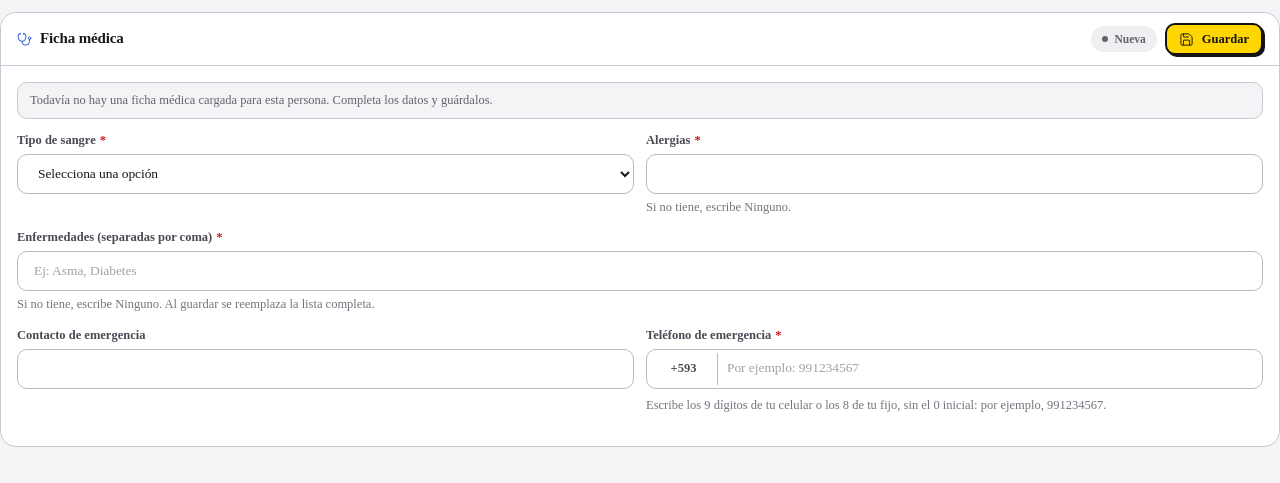
Test: MedicalRecordEditor emergency phone (#643) › refuses to save a malformed emergency phone, quoting the shared rule
Select "O POSITIVO" in the dropdown labelled "Tipo de sangre": (326, 174) x1=17 y1=154 x2=634 y2=194
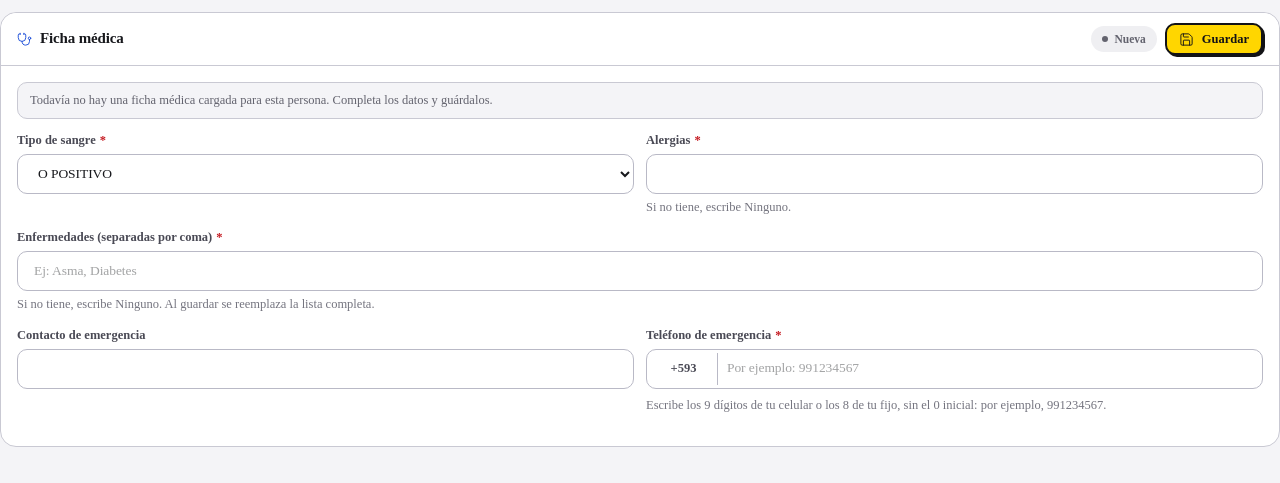
In the field labelled "Alergias": (954, 174) x1=646 y1=154 x2=1263 y2=194, type "Ninguno"
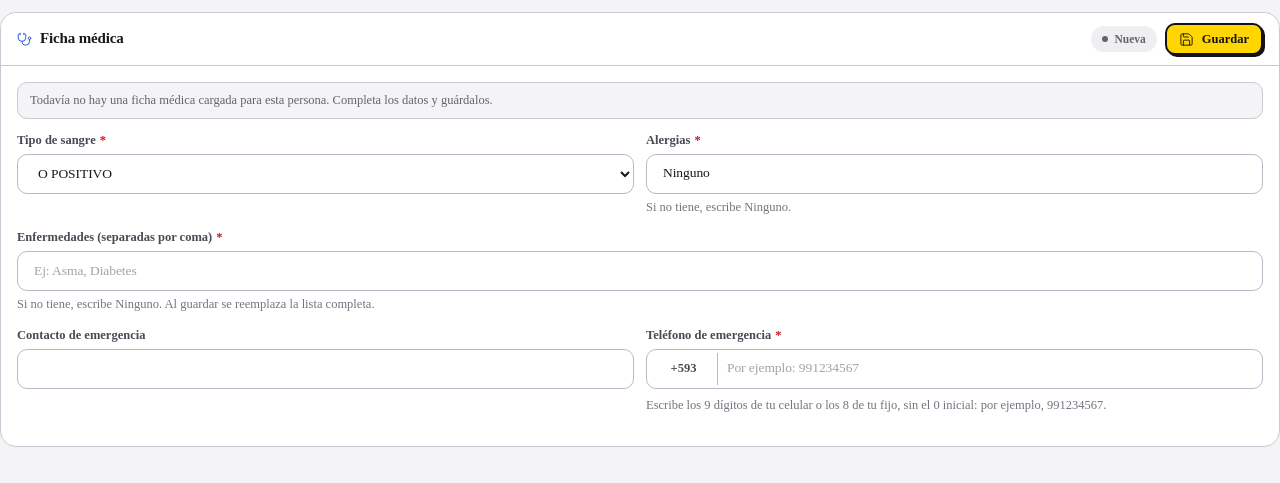
In the field labelled "Enfermedades (separadas por coma)": (640, 271) x1=17 y1=251 x2=1263 y2=291, type "Ninguno"
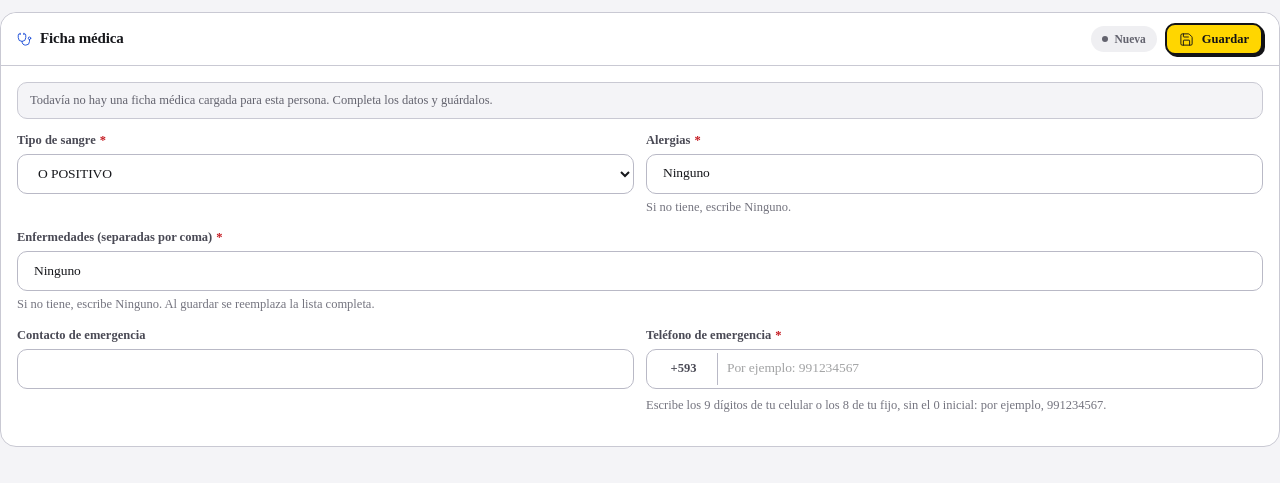
In the field labelled "Teléfono de emergencia*": (954, 368) x1=646 y1=348 x2=1263 y2=388, type "123"
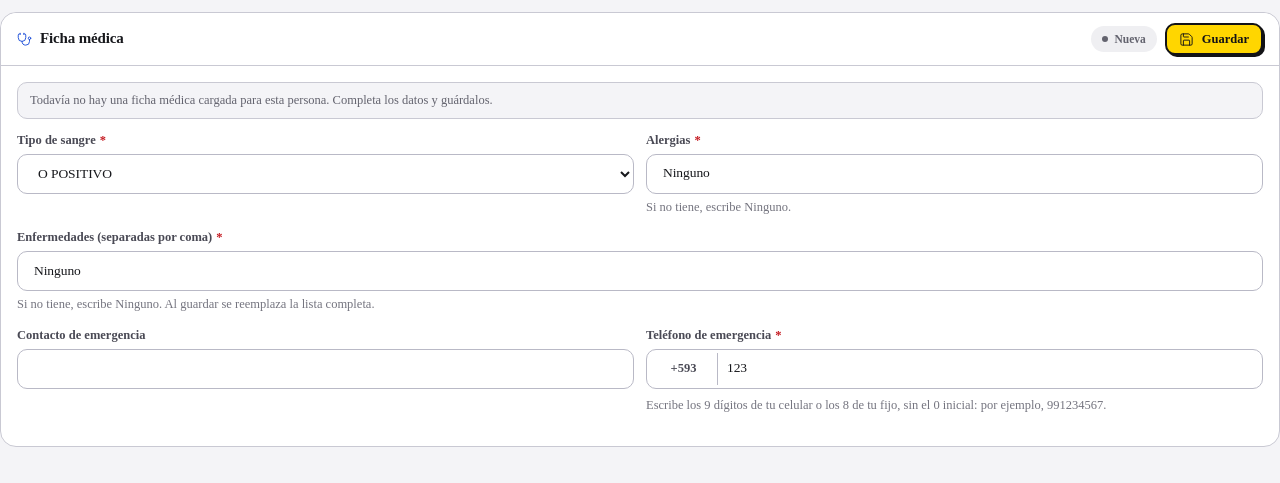
Click the button "Guardar": (1214, 39) x1=1165 y1=23 x2=1263 y2=55
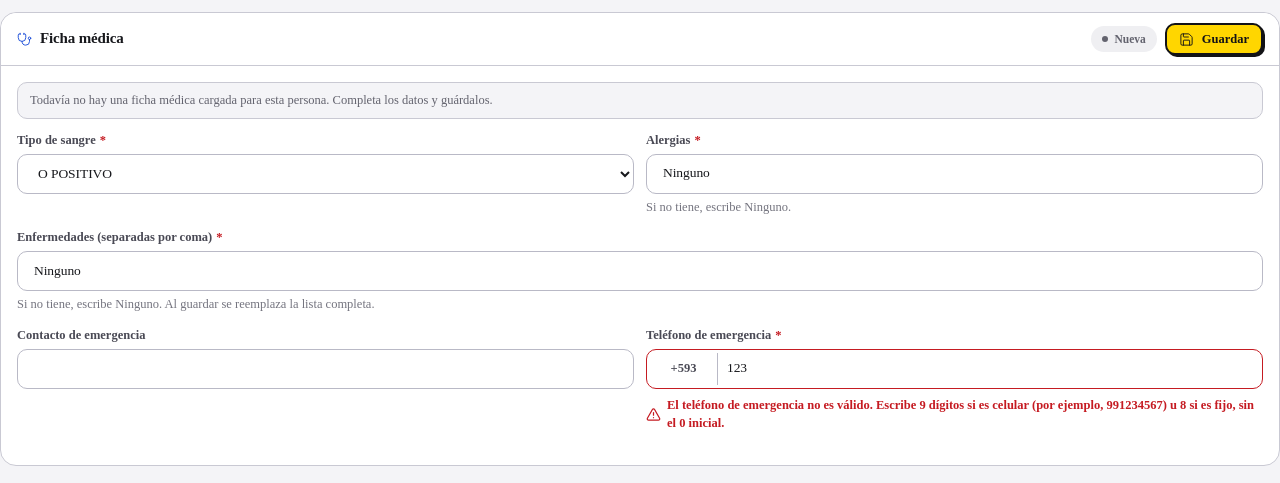
Check: the text "El teléfono de emergencia no es válido. Escribe 9 dígitos si es celular (por ejemplo, 991234567) u 8 si es fijo, sin el " is shown, box x1=667 y1=398 x2=1254 y2=430
